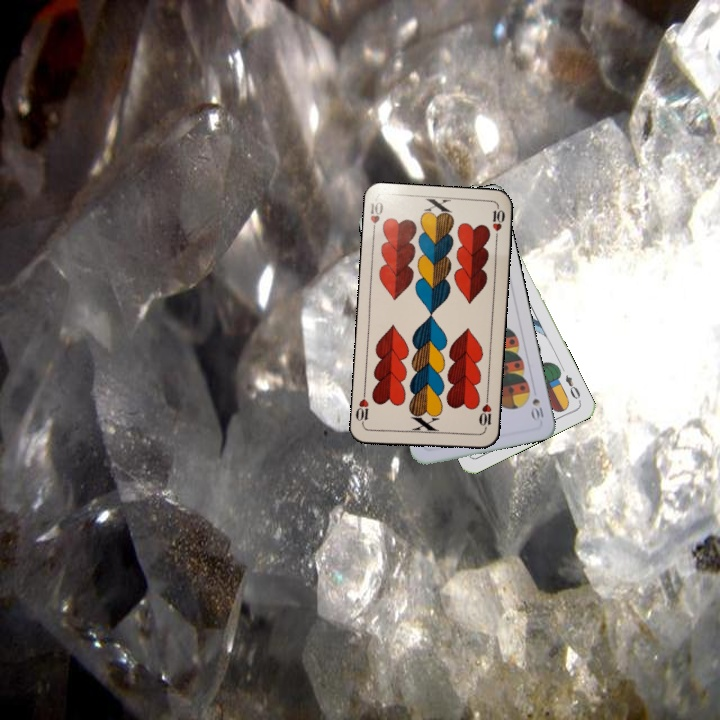EO: (561, 371, 583, 402)
H10: (366, 198, 386, 238), (475, 393, 494, 434)
S10: (527, 394, 546, 423)
